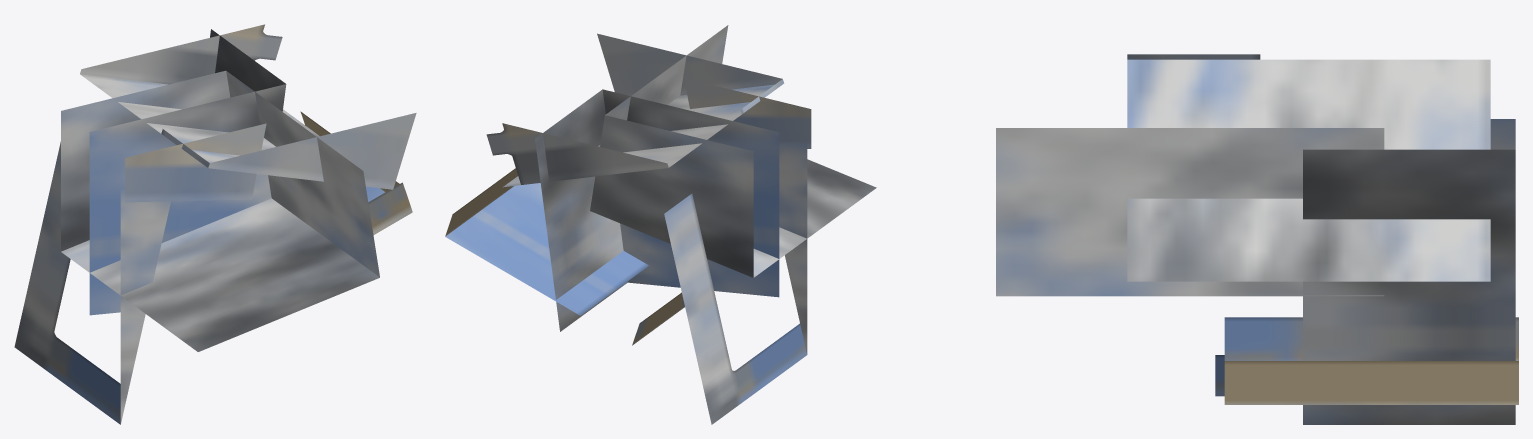
The model's file is section-2.obj.
3 renders of one model, left to right at view 1: azimuth 30°, elevation 25°; view 2: azimuth 150°, elevation 25°; view 3: azimuth 270°, elevation 25°, orthographic. The views are drawn at different scales.
Size of the model in its own units: 0.8324 by 0.7275 by 1.02.
